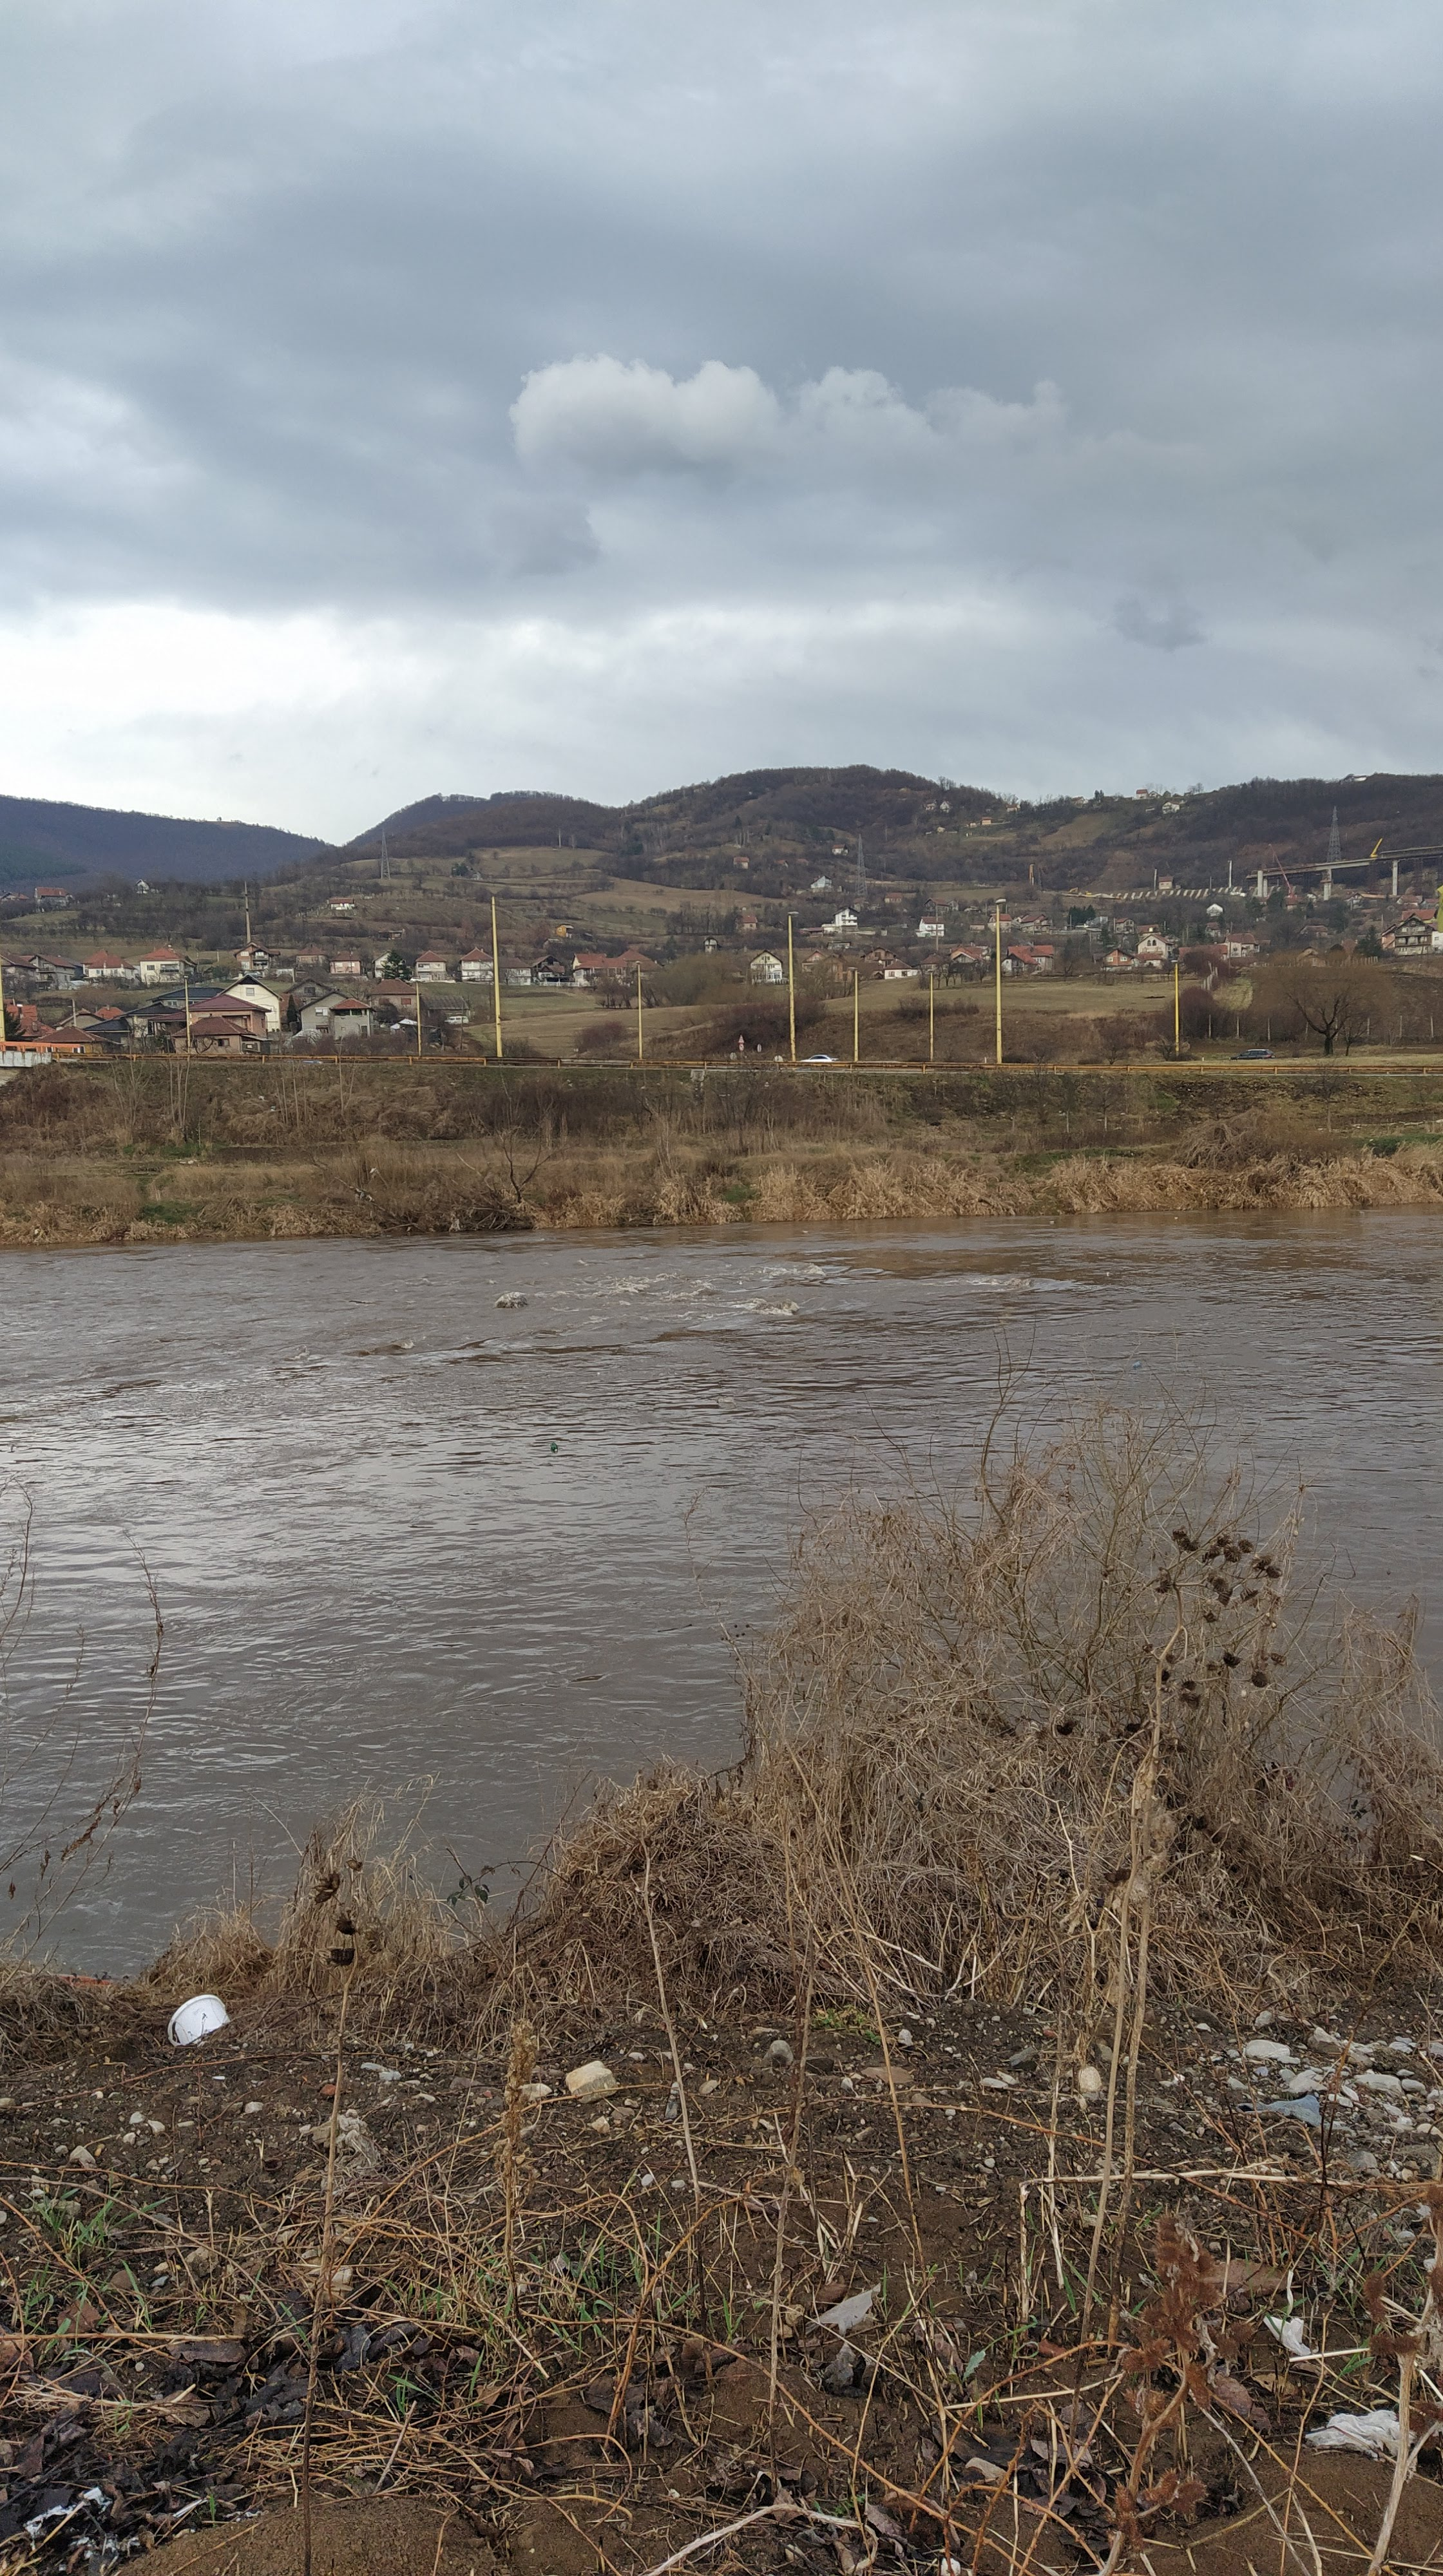Plastic Bottle: (717, 1398, 735, 1403), (551, 1444, 558, 1453), (1133, 1361, 1140, 1368), (804, 1230, 809, 1233), (1050, 1219, 1053, 1223), (1176, 1215, 1179, 1219), (1107, 1272, 1108, 1274)
